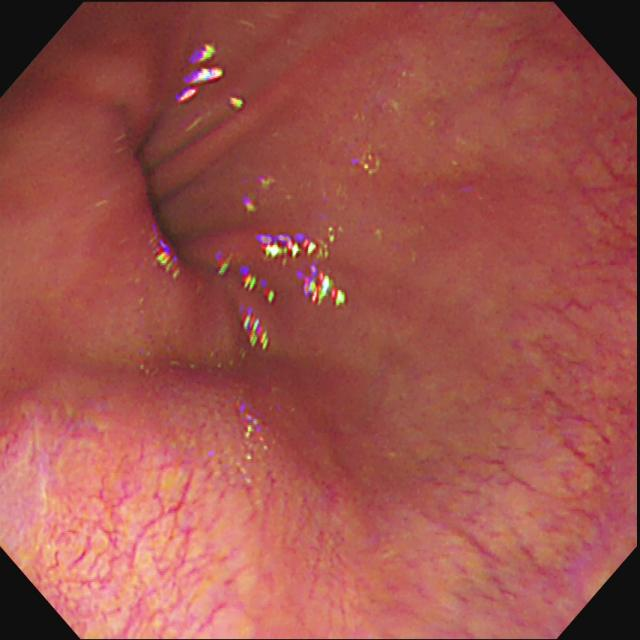T: (358, 146, 382, 177)
U: (177, 42, 225, 104), (298, 264, 349, 312), (257, 232, 331, 265), (147, 228, 183, 285), (238, 308, 274, 355), (242, 274, 279, 306), (215, 254, 237, 277)
